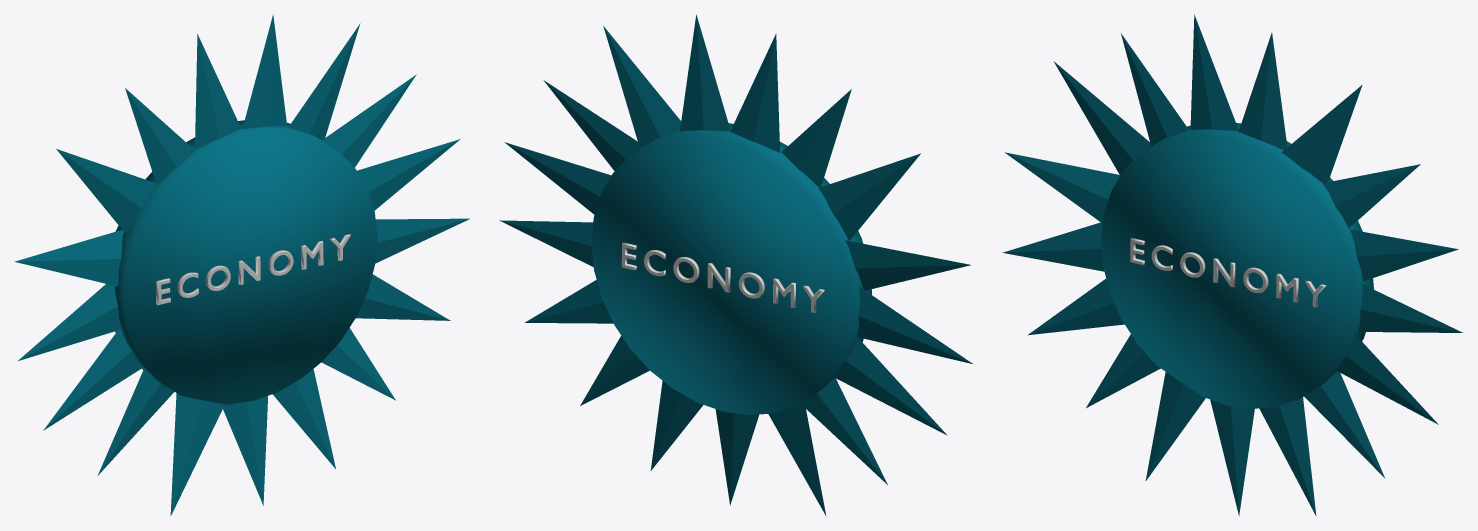
The picture shows the model from 3 angles, left to right: view 1: azimuth 30°, elevation 25°; view 2: azimuth 150°, elevation 25°; view 3: azimuth 330°, elevation 25°; orthographic projection. The views are drawn at different scales.
Visible parts, largest first — view 1: cone1.004, Efficiency Spark; view 2: cone1.004, Efficiency Spark.001; view 3: cone1.004, Efficiency Spark.
Boxes of the visible parts, x1=… form: cone1.004: x1=14, y1=14, x2=469, y2=516; Efficiency Spark: x1=156, y1=234, x2=350, y2=305; cone1.004: x1=499, y1=14, x2=973, y2=515; Efficiency Spark.001: x1=621, y1=242, x2=824, y2=312; cone1.004: x1=1002, y1=14, x2=1462, y2=516; Efficiency Spark: x1=1130, y1=238, x2=1326, y2=307.
Size of the model in its own units: 15.47 by 15.49 by 1.5.
